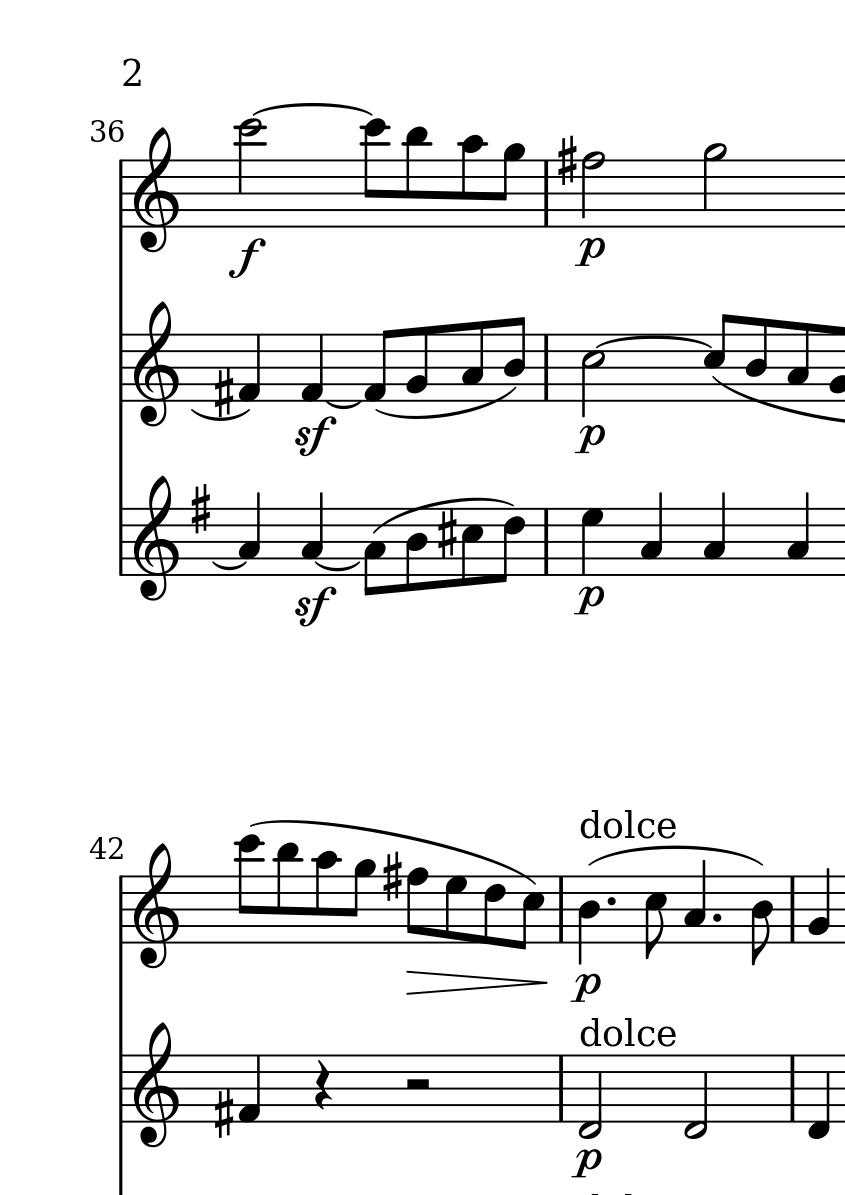2: (119, 57, 142, 88), (106, 833, 123, 862)
2_-1: (683, 1052, 708, 1141), (578, 1052, 603, 1139)
2_12: (234, 117, 266, 229)
2_5: (580, 331, 604, 419)
2_8: (581, 150, 607, 229)
2_9: (699, 142, 728, 229)
3: (89, 117, 105, 145)
4: (88, 833, 105, 862)
4_-1: (806, 1053, 830, 1141)
4_1: (236, 333, 262, 404), (237, 1054, 262, 1125), (299, 333, 324, 403)
4_2: (807, 867, 831, 946)
4_3: (785, 491, 811, 579), (236, 490, 262, 577), (639, 490, 665, 577), (300, 489, 325, 577), (702, 490, 727, 578), (683, 859, 706, 945)
4_4: (578, 874, 601, 967)
4_7: (579, 508, 605, 577)
6: (107, 118, 124, 145)
8_1: (362, 328, 398, 403)
8_10: (455, 134, 489, 229), (311, 851, 341, 946)
8_11: (274, 842, 304, 946), (402, 126, 432, 229)
8_12: (234, 834, 266, 946), (360, 118, 391, 228)
8_2: (404, 326, 430, 403)
8_3: (362, 508, 387, 598), (460, 321, 486, 403), (785, 320, 810, 403)
8_4: (748, 874, 774, 967), (502, 316, 527, 404), (744, 317, 769, 404), (404, 507, 428, 592)
8_5: (702, 314, 735, 404), (517, 874, 545, 953), (642, 874, 667, 961), (460, 507, 485, 585)
8_6: (495, 507, 527, 584), (483, 874, 506, 948)
8_7: (443, 874, 468, 945)
8_8: (404, 866, 429, 945)
8_9: (343, 858, 377, 948), (497, 142, 527, 229)
Diminuendo_hairpin: (405, 968, 550, 996)
Gclef: (133, 842, 183, 970), (132, 475, 180, 604), (132, 301, 181, 427), (134, 1021, 180, 1150), (133, 126, 178, 255)
Rests2: (399, 1076, 435, 1097)
Rests4: (313, 1059, 332, 1111)
Sharp: (211, 1086, 236, 1139), (211, 366, 235, 418), (437, 508, 458, 562), (189, 483, 211, 533), (556, 134, 576, 186), (381, 852, 402, 901)
Single_barline: (112, 1054, 131, 1123), (113, 160, 131, 230), (113, 875, 131, 945), (113, 508, 131, 576), (551, 876, 569, 944), (537, 508, 555, 575), (113, 334, 130, 402), (538, 333, 554, 402), (553, 1055, 569, 1123), (785, 875, 800, 943), (785, 1055, 800, 1122), (539, 160, 553, 228)
Slur: (250, 819, 538, 888), (371, 497, 518, 536), (590, 846, 767, 868), (253, 103, 372, 117), (597, 336, 713, 348), (313, 557, 358, 573), (186, 411, 252, 421), (209, 559, 250, 572), (326, 400, 360, 408)
dot: (604, 895, 617, 908), (709, 911, 723, 922)
f: (227, 238, 266, 279)
p: (574, 236, 606, 269), (570, 971, 601, 1004), (571, 1146, 602, 1179), (575, 585, 604, 619), (574, 424, 604, 456)
sf: (288, 584, 337, 630), (292, 415, 336, 457)
